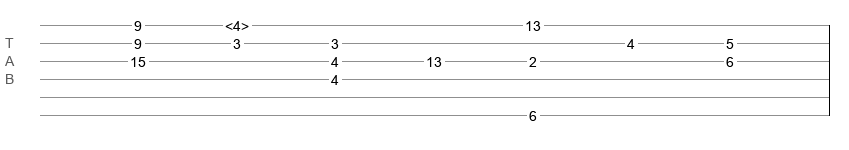13: (426, 54, 442, 64), (525, 18, 541, 28)
15: (130, 54, 146, 64)
2: (529, 54, 537, 64)
3: (233, 36, 241, 46), (331, 36, 339, 46)
4: (331, 72, 339, 82), (331, 54, 339, 64), (627, 36, 635, 46)
5: (726, 36, 734, 46)
6: (529, 108, 537, 118), (726, 54, 734, 64)
9: (134, 18, 142, 28), (134, 36, 142, 46)
harmonic: (225, 18, 249, 28)
